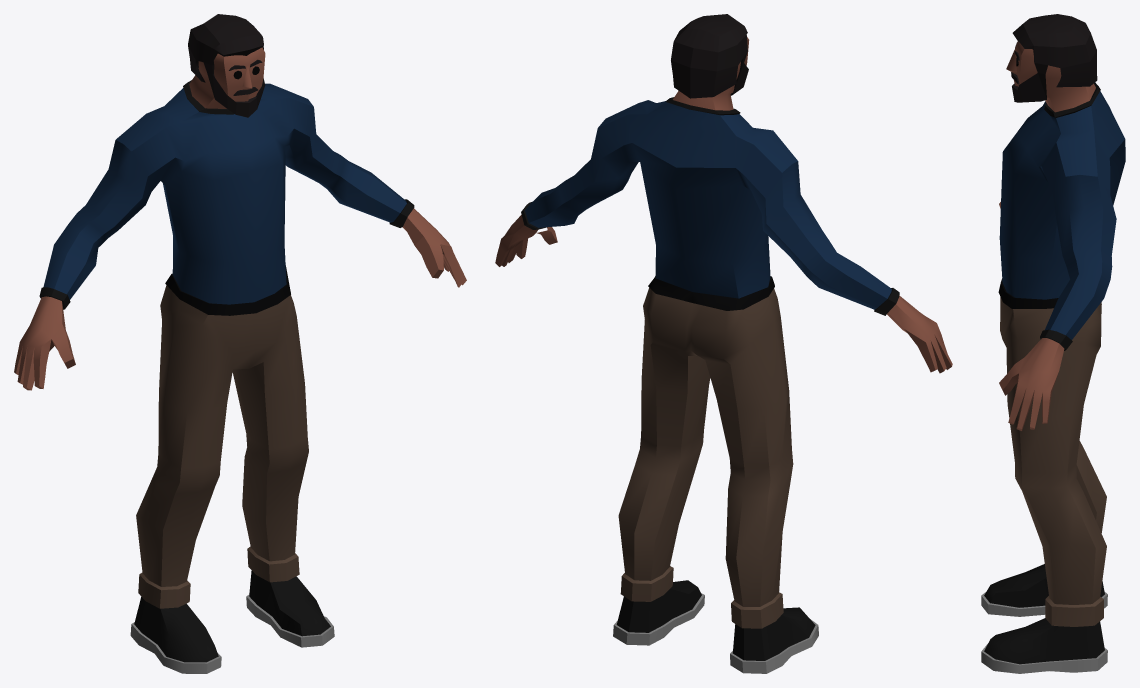
Rendered from LowPolyCharacter1.glb.
3 views of the same model, side by side, from view 1: azimuth 30°, elevation 25°; view 2: azimuth 150°, elevation 25°; view 3: azimuth 270°, elevation 25° (orthographic).
Parts seen in each view (by area): view 1: lowPolyCharacterFace_EXP; view 2: lowPolyCharacterFace_EXP; view 3: lowPolyCharacterFace_EXP.
Part boxes in pixels (box(x1,y1,x2,y2)): lowPolyCharacterFace_EXP: box(14, 14, 466, 673); lowPolyCharacterFace_EXP: box(495, 14, 952, 673); lowPolyCharacterFace_EXP: box(981, 14, 1125, 673).
Size of the model in its own units: 1.39 by 1.84 by 0.3922.
